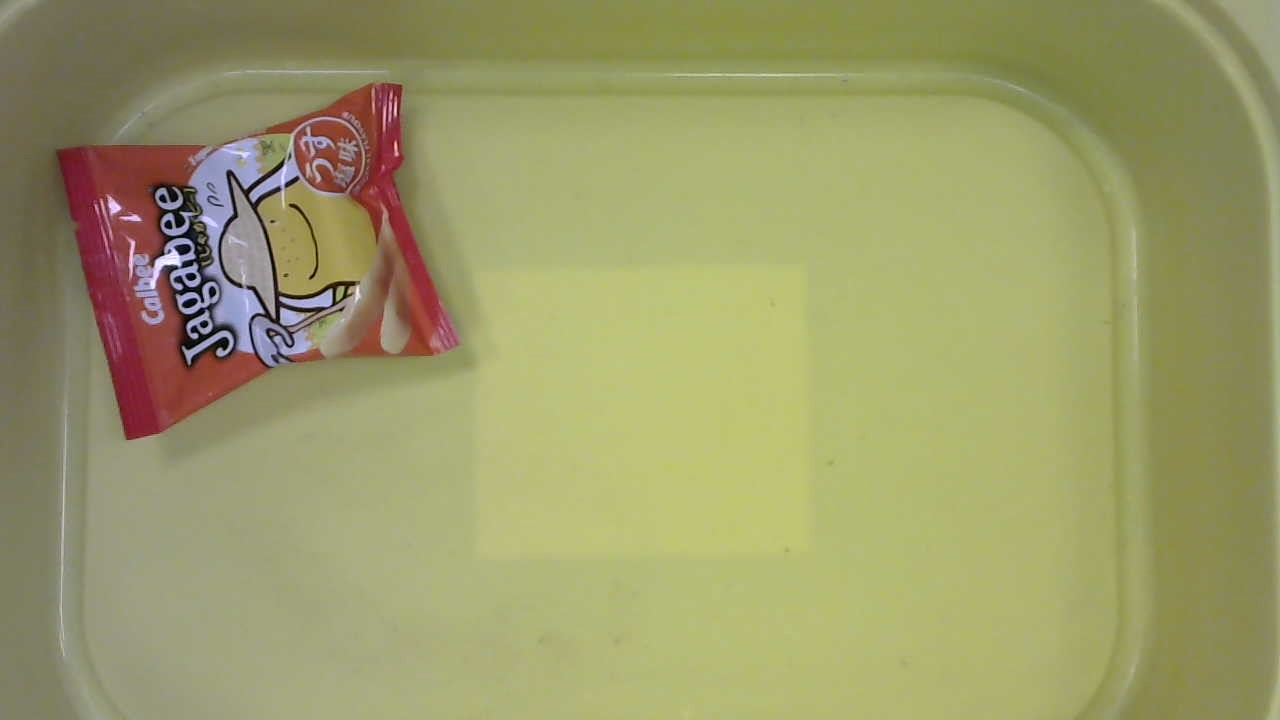JagabeeFarmer: (39, 70, 483, 445)
